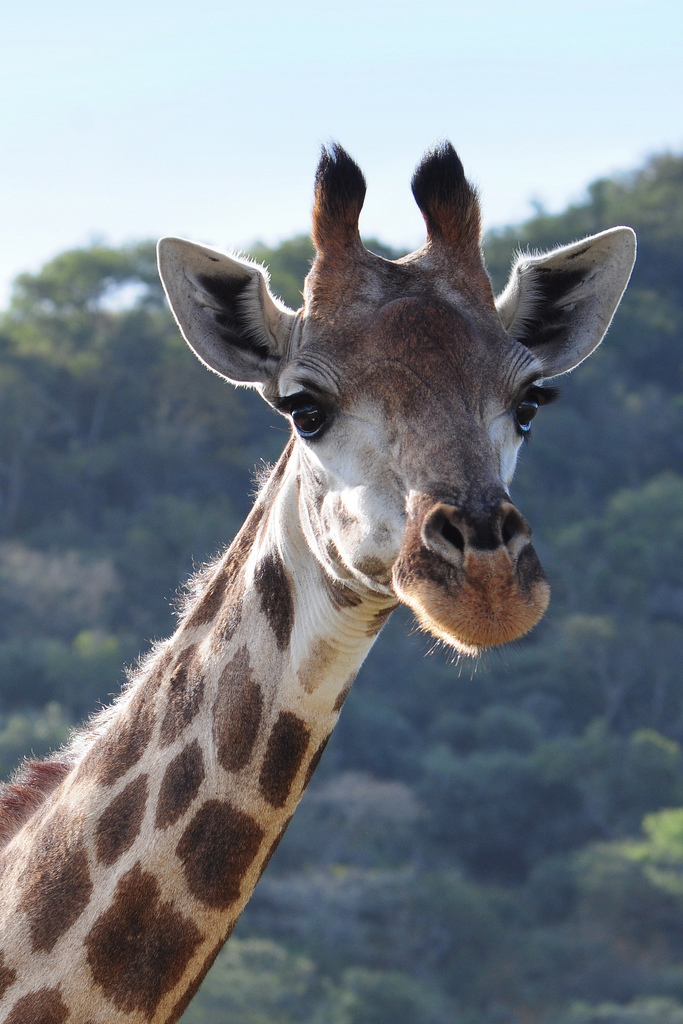giraffe: (48, 138, 655, 960)
